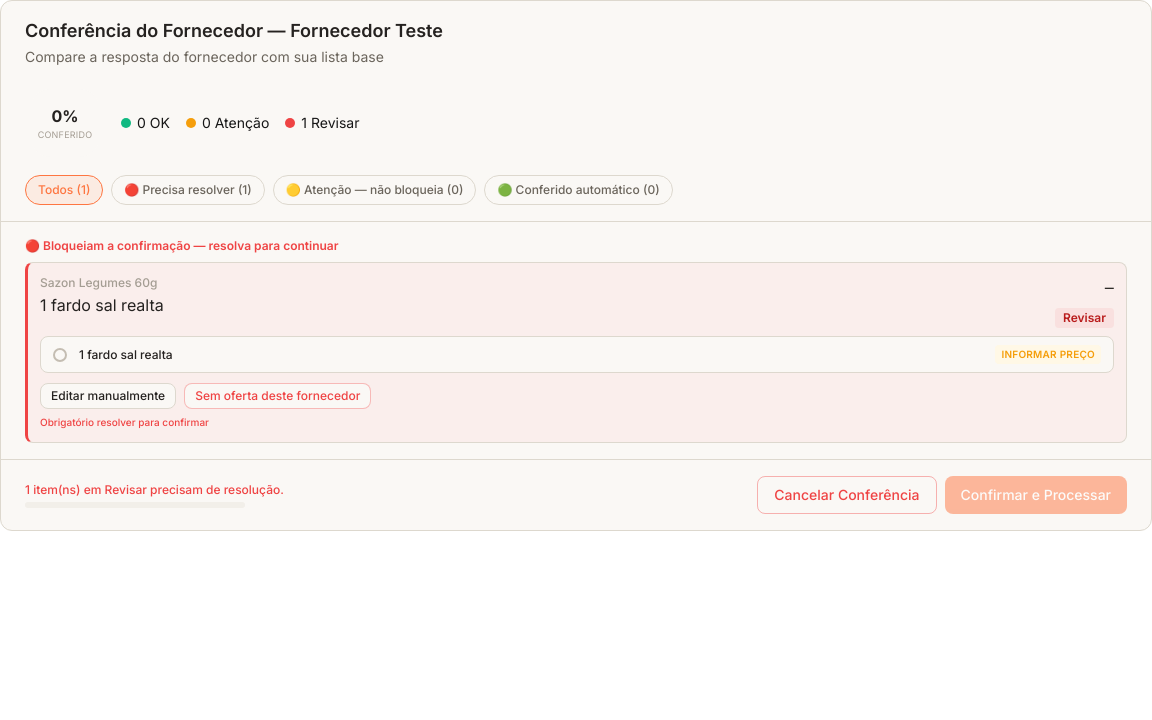
Scenario: ConferenciaPendente — ResolucaoInline › selecionar opção sem preço abre o formulário manual com o texto da opção e preço vazio
Click the radio button at [126, 354], box [40,336,1114,373]
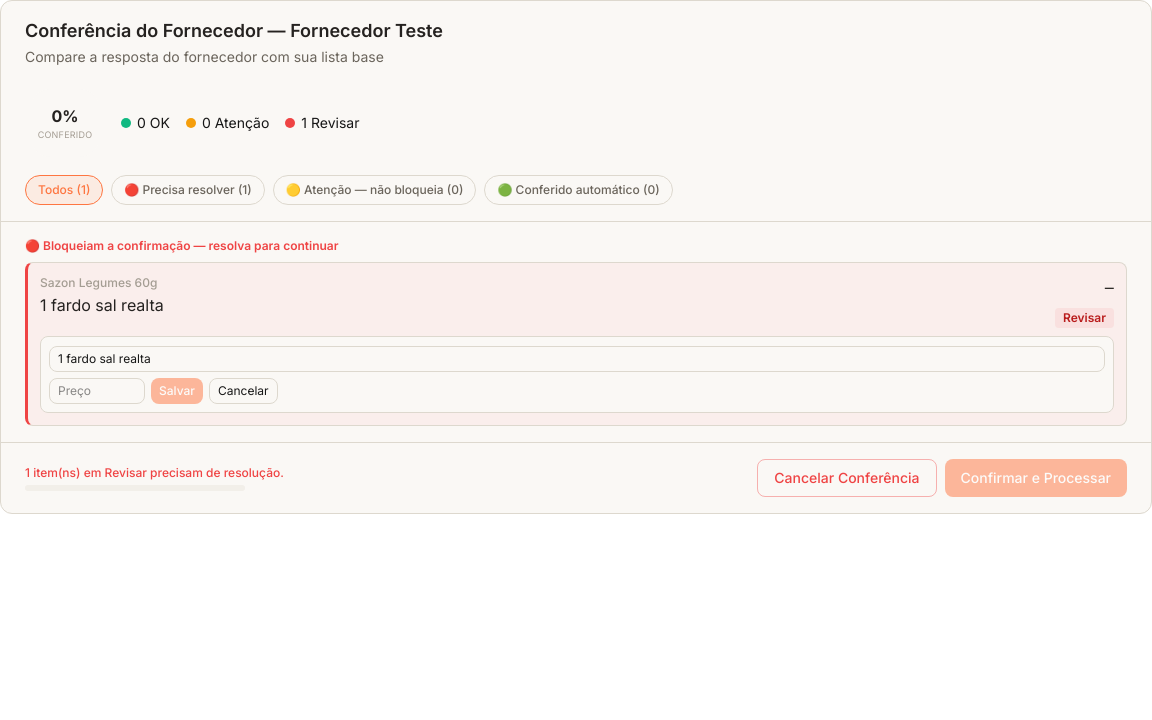
Result: the field with placeholder "Descrição do produto" holds "1 fardo sal realta" at [49,346,1105,372]
Result: the field with placeholder "Preço" is empty at [49,378,145,404]
